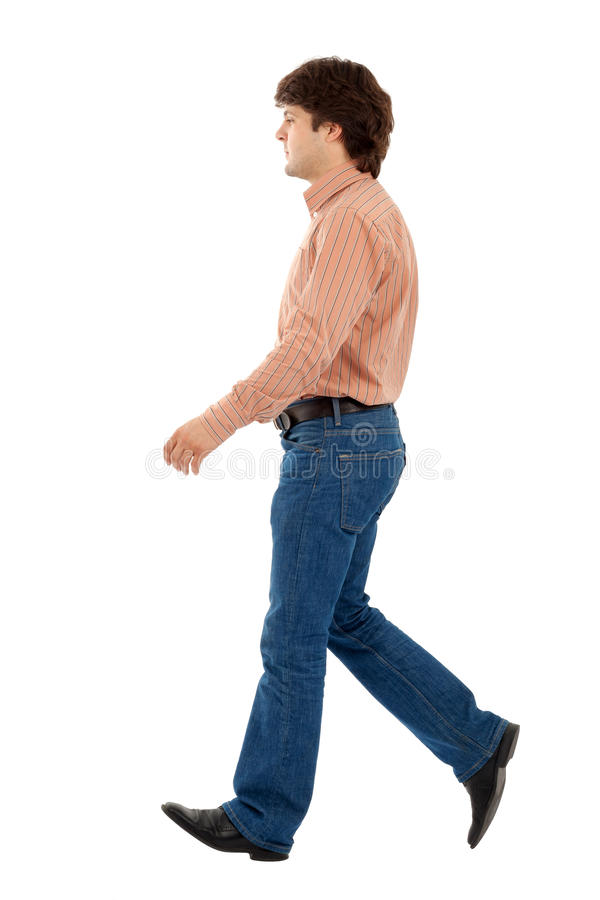Person: (150, 57, 525, 865)
